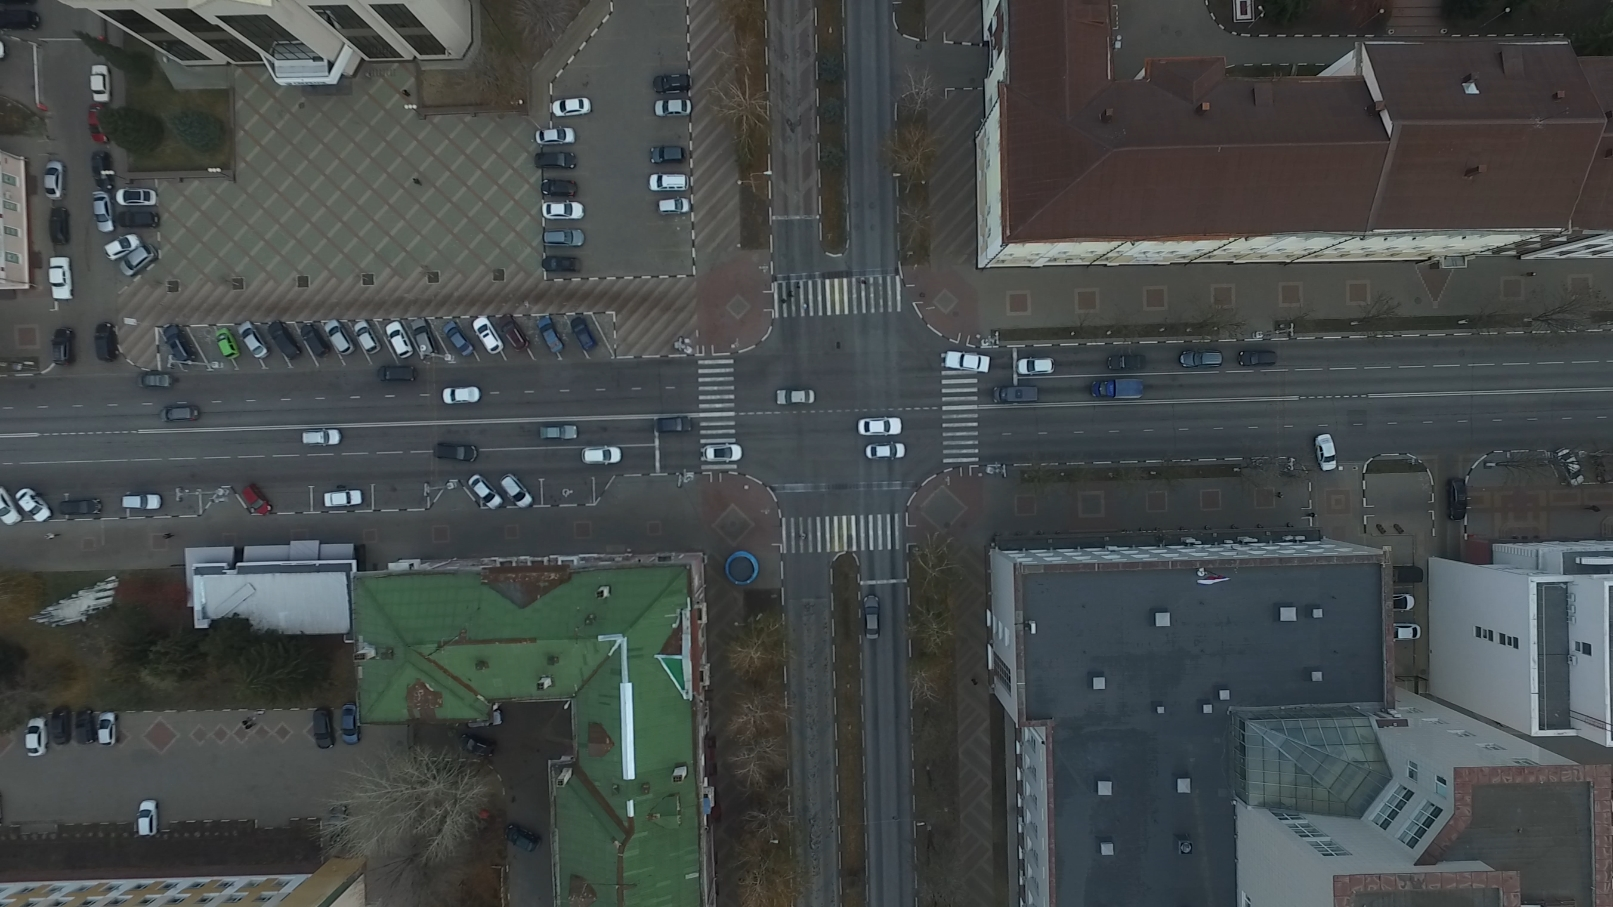car: (161, 324, 201, 365), (468, 474, 508, 511), (270, 320, 305, 362), (44, 256, 75, 302), (322, 317, 357, 357), (17, 485, 52, 523), (496, 315, 531, 352), (471, 318, 505, 355), (1557, 446, 1589, 486), (443, 321, 477, 358), (505, 823, 544, 855), (327, 803, 355, 847), (409, 316, 436, 360), (500, 474, 534, 509), (458, 732, 496, 762), (535, 317, 565, 355), (92, 321, 119, 364), (91, 186, 117, 229), (237, 321, 269, 357), (351, 319, 382, 355), (41, 159, 68, 200), (90, 150, 116, 190), (119, 245, 156, 274), (136, 797, 162, 839), (301, 323, 332, 358), (85, 101, 110, 144), (386, 322, 413, 360), (242, 483, 273, 516), (945, 350, 992, 372), (106, 231, 142, 260), (314, 707, 337, 750), (340, 701, 363, 744), (85, 64, 112, 102), (1092, 380, 1145, 399), (569, 316, 598, 350), (216, 324, 242, 363), (113, 188, 157, 210), (700, 441, 744, 463), (50, 704, 73, 746), (1, 480, 23, 523), (432, 441, 477, 462), (859, 416, 904, 437), (53, 327, 76, 368), (533, 150, 581, 169), (377, 364, 420, 385), (58, 498, 105, 517), (540, 227, 584, 247), (1314, 433, 1336, 473), (73, 708, 96, 745), (653, 73, 694, 94), (1447, 480, 1468, 521), (115, 209, 158, 229), (1180, 348, 1223, 368), (25, 717, 48, 755), (2, 9, 41, 31), (863, 595, 882, 640), (648, 171, 690, 190), (649, 145, 687, 167), (582, 446, 626, 465), (653, 97, 694, 117), (1103, 353, 1144, 373), (553, 97, 592, 118), (322, 487, 362, 507), (540, 255, 582, 274), (534, 127, 576, 146), (301, 429, 343, 447), (541, 200, 584, 218), (1017, 358, 1060, 375), (540, 178, 579, 197), (49, 206, 69, 244), (135, 372, 175, 391), (97, 710, 119, 745), (866, 441, 908, 458), (995, 385, 1036, 403), (778, 386, 815, 405), (442, 386, 480, 405), (654, 195, 690, 214), (120, 495, 163, 511), (156, 405, 199, 421), (656, 416, 689, 436), (540, 426, 578, 443), (1393, 565, 1422, 586), (1239, 353, 1281, 368), (1393, 622, 1421, 639), (1393, 592, 1414, 611)
